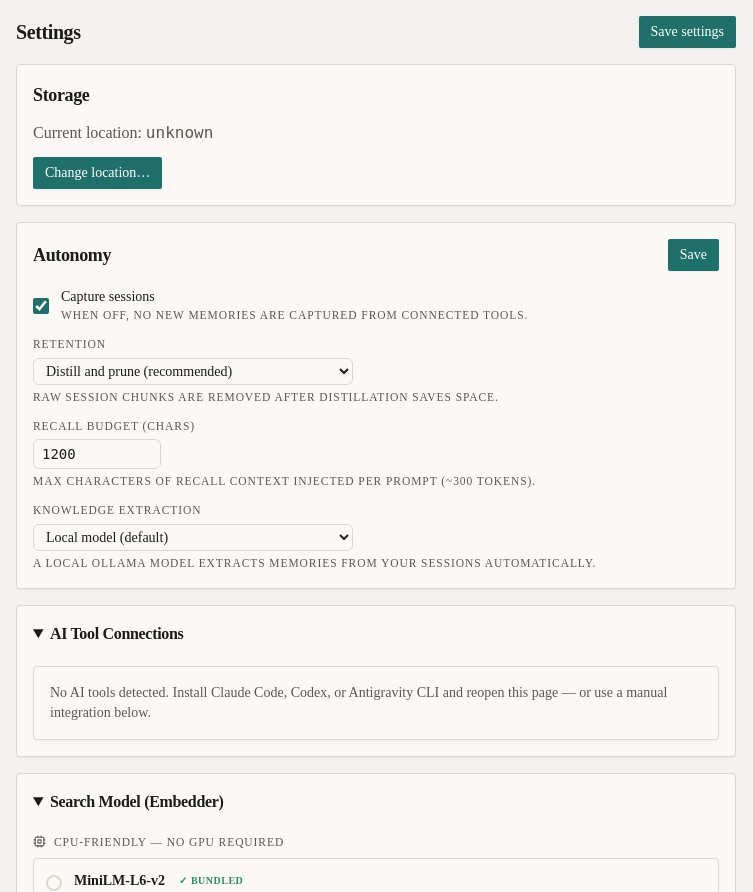
Test: clears save error and shows saved timestamp on successful save (P1-16)
First click → error appears
Click the button "Save settings".
click(687, 32)  # box 638,16 -> 736,48
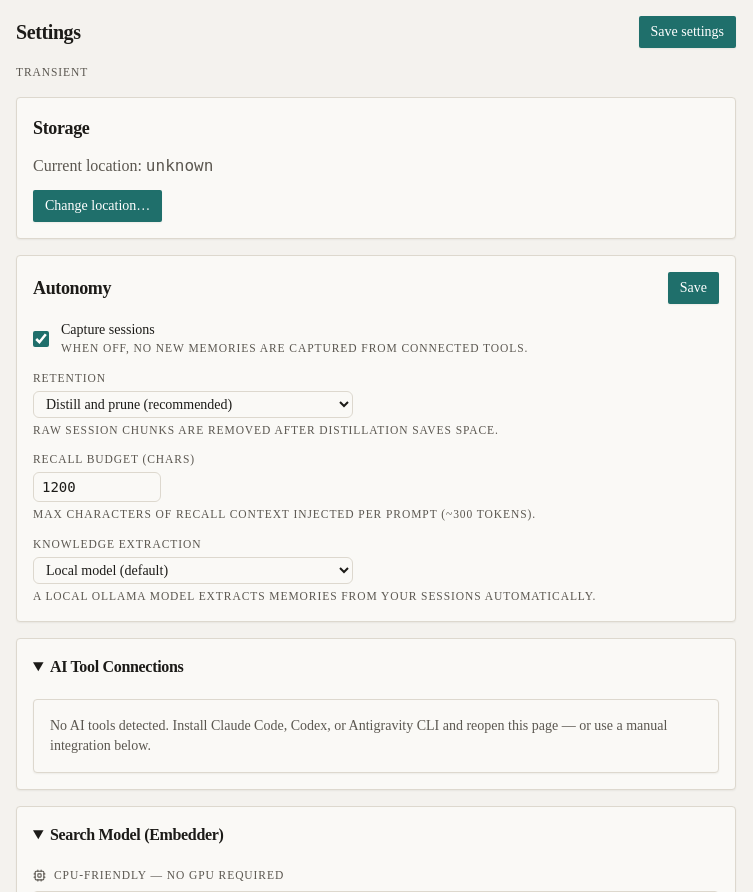
Expected: the message "transient" is shown, 16,66 -> 88,78
Second click → error should clear
Click the button "Save settings".
click(687, 32)  # box 638,16 -> 736,48
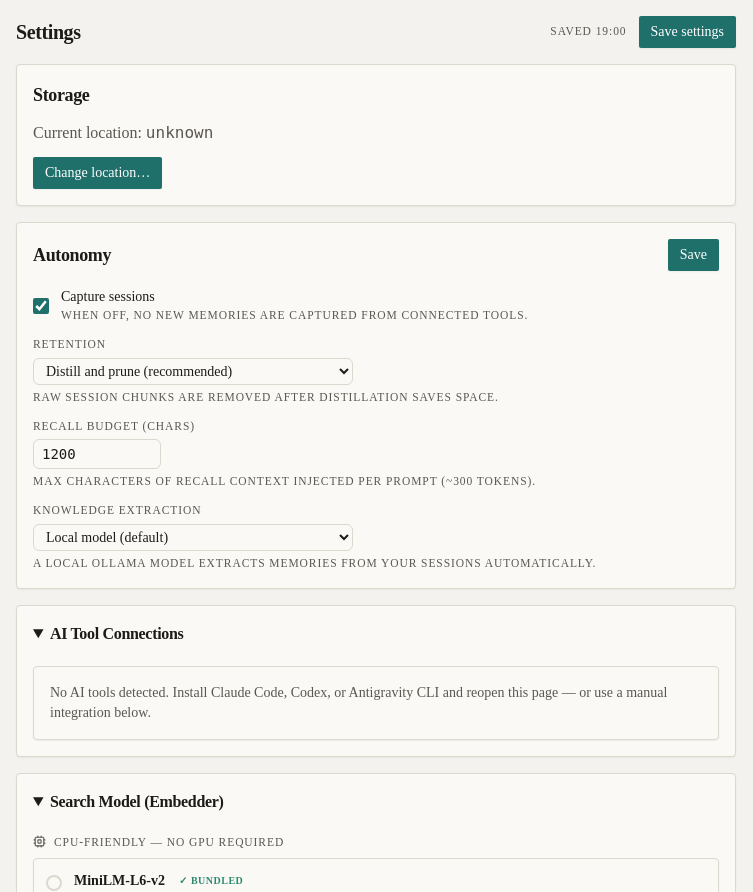
Expected: the message "transient" is gone
